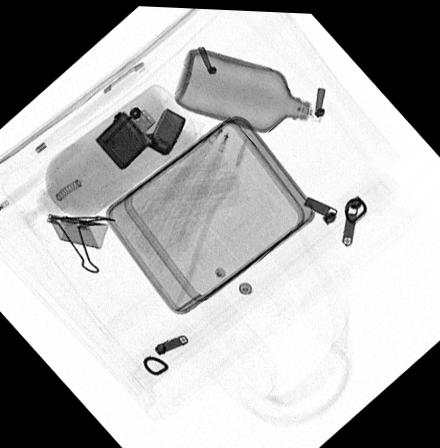Lighter: (94, 104, 186, 169)
